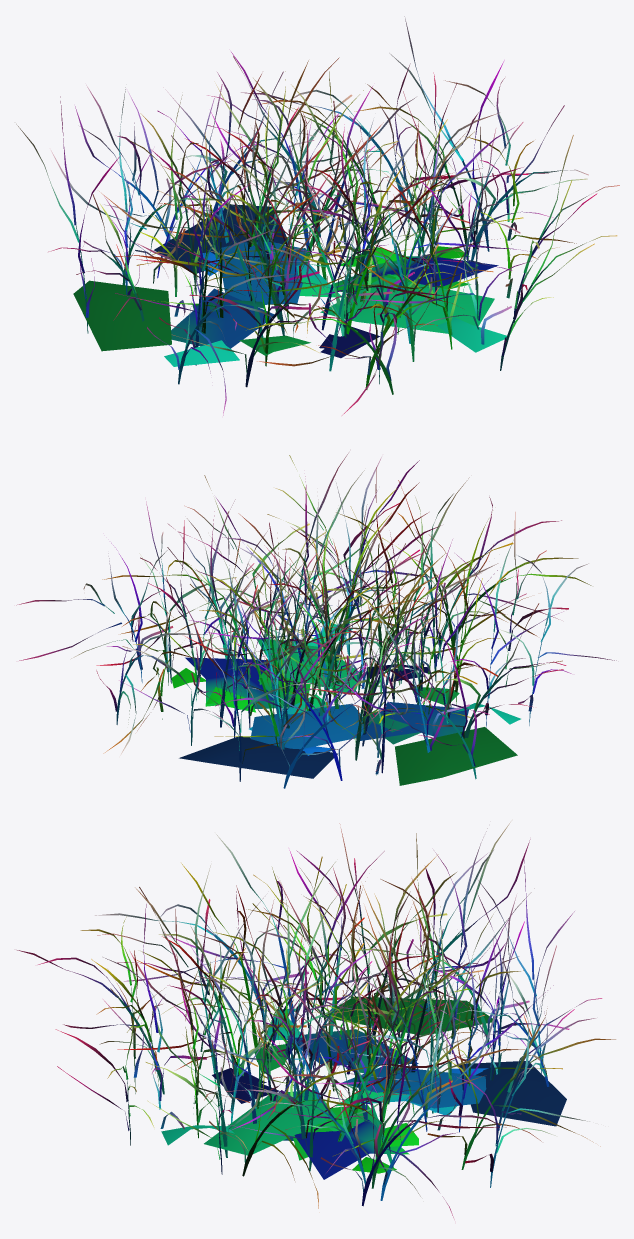
Rendered from Kikuyu_Grass_wiljearqx_High_wiljearqx_VarF_LOD1.fbx.
The picture shows the model from 3 angles, top to bottom: view 1: azimuth 30°, elevation 25°; view 2: azimuth 150°, elevation 25°; view 3: azimuth 270°, elevation 25°; orthographic projection. The views are drawn at different scales.
Parts seen in each view (by area): view 1: _3nqq_VarF_LOD2; view 2: _3nqq_VarF_LOD2; view 3: _3nqq_VarF_LOD2.
Boxes of the visible parts, box(x1,y1,x2,y2) form: _3nqq_VarF_LOD2: box(16, 16, 619, 415); _3nqq_VarF_LOD2: box(16, 453, 616, 788); _3nqq_VarF_LOD2: box(17, 822, 615, 1219).
Bounding box in the file's own units: 91.45 × 34.91 × 85.97.
